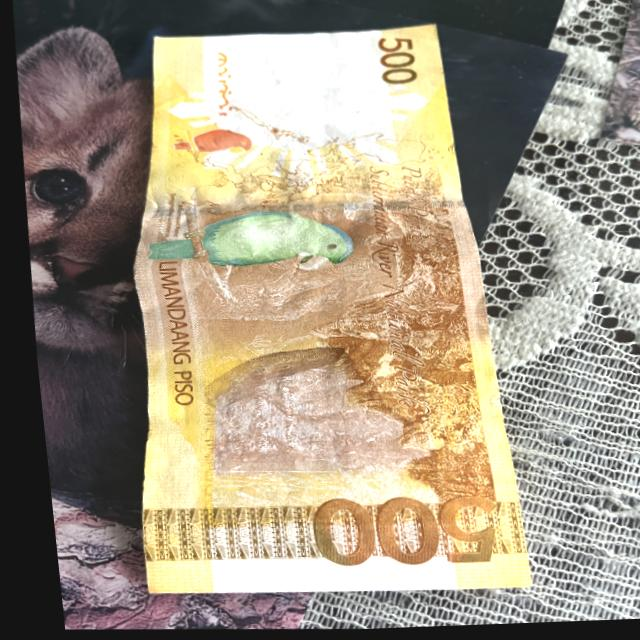security_thread: (136, 190, 458, 234)
value: (282, 492, 512, 582)
value_watermark: (232, 44, 294, 78)
watermark: (205, 37, 375, 133)
